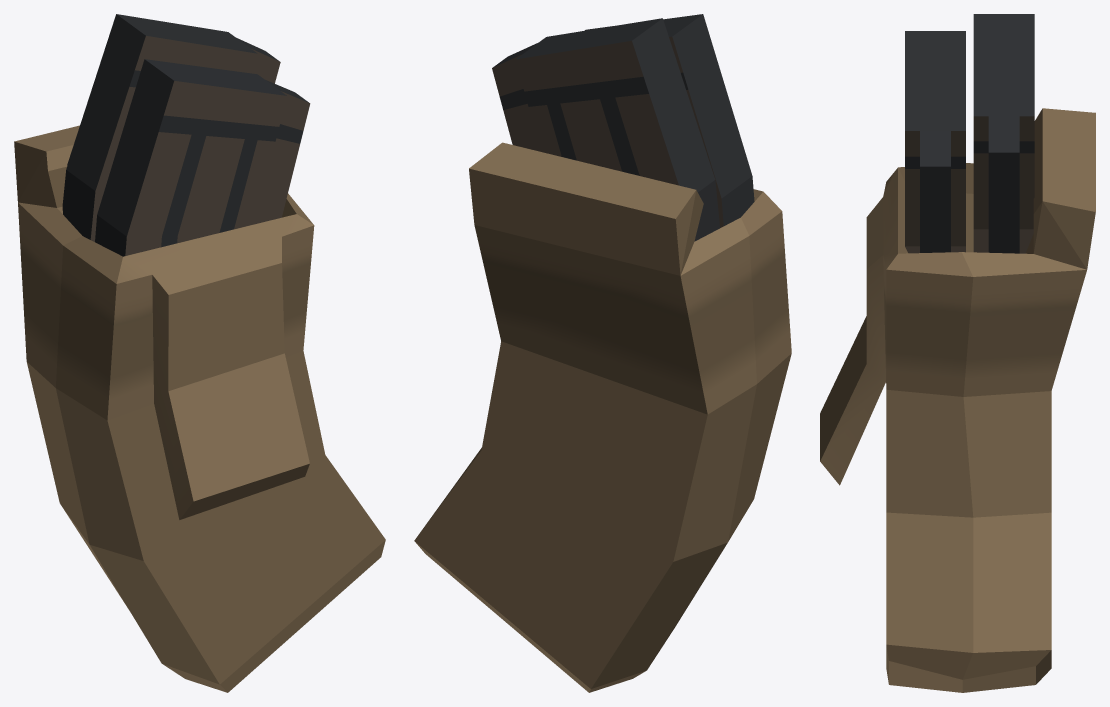
The model's file is SM_Chr_Attach_Pouch_Mag_Double_02.fbx.
3 views of the same model, side by side, from view 1: azimuth 30°, elevation 25°; view 2: azimuth 150°, elevation 25°; view 3: azimuth 270°, elevation 25° (orthographic). The views are drawn at different scales.
Visible parts, largest first — view 1: SM_Chr_Attach_Pouch_Mag_Double_02; view 2: SM_Chr_Attach_Pouch_Mag_Double_02; view 3: SM_Chr_Attach_Pouch_Mag_Double_02.
Boxes of the visible parts, box(x1,y1,x2,y2) form: SM_Chr_Attach_Pouch_Mag_Double_02: box(14, 14, 385, 692); SM_Chr_Attach_Pouch_Mag_Double_02: box(414, 14, 791, 692); SM_Chr_Attach_Pouch_Mag_Double_02: box(820, 14, 1095, 692).
Bounding box in the file's own units: 15.61 × 31.94 × 12.06.
